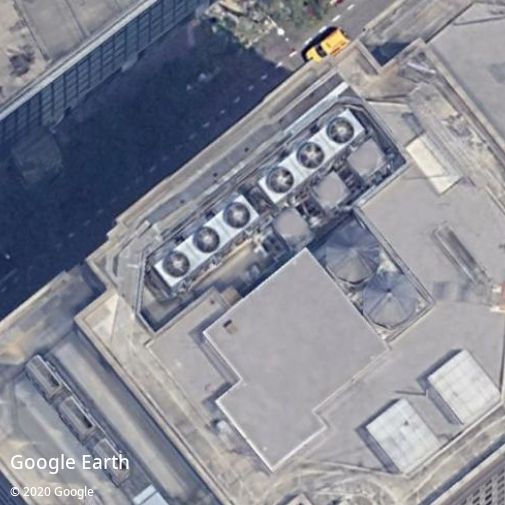Vent: (224, 203, 251, 229), (328, 118, 354, 144), (299, 142, 324, 169), (267, 168, 294, 193), (164, 252, 189, 278), (195, 228, 220, 253)
